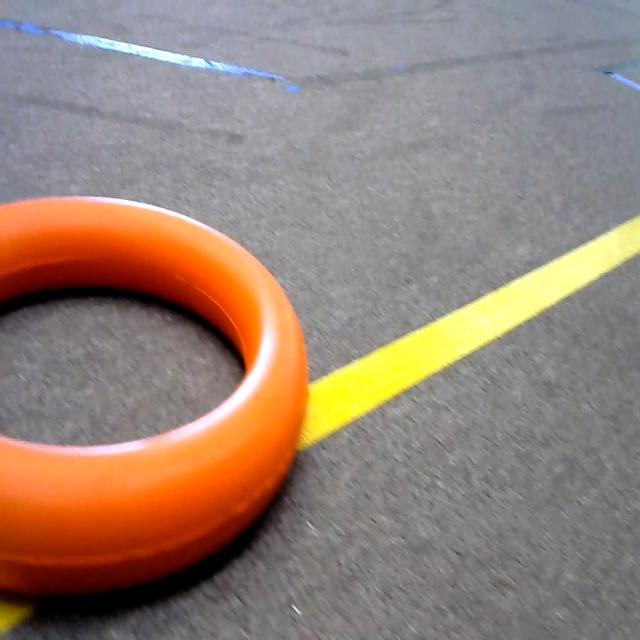note: (0, 165, 321, 597)
